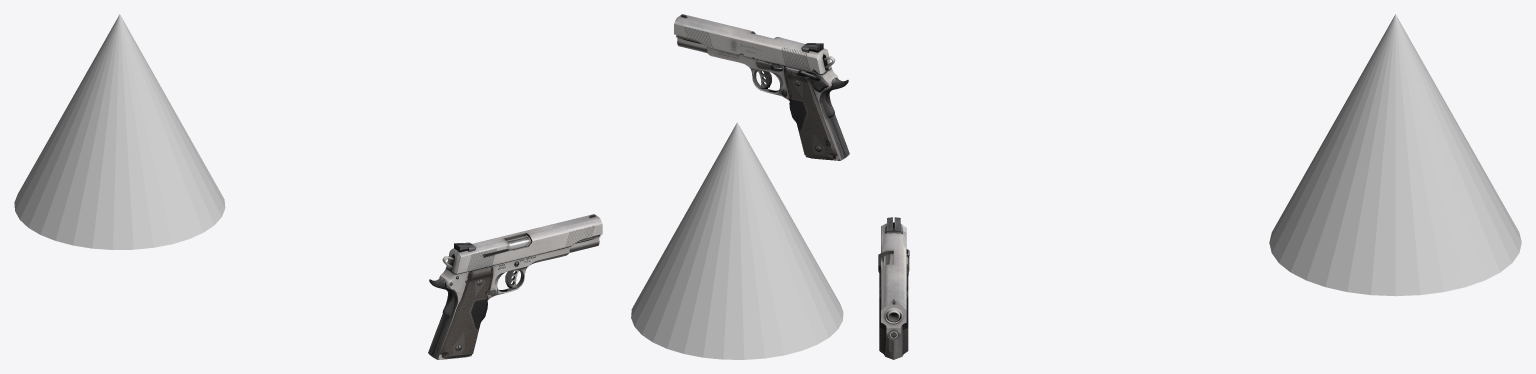
The picture shows the model from 3 angles, left to right: view 1: azimuth 30°, elevation 25°; view 2: azimuth 150°, elevation 25°; view 3: azimuth 270°, elevation 25°; orthographic projection. The views are drawn at different scales.
Visible parts, largest first — view 1: Cone, Gun, Gun1; view 2: Cone, Gun, Gun1, Gun_trigger; view 3: Cone, Gun1, Gun.
Boxes of the visible parts, box(x1,y1,x2,y2) form: Cone: box(14, 14, 225, 249); Gun: box(428, 235, 569, 359); Gun1: box(446, 214, 602, 274); Cone: box(631, 122, 843, 359); Gun: box(707, 35, 849, 160); Gun1: box(674, 14, 831, 74); Gun_trigger: box(758, 70, 771, 88); Cone: box(1269, 14, 1521, 296); Gun1: box(881, 217, 906, 340); Gun: box(878, 222, 909, 359).
Size of what is drawn, in the model's own units: 3.94 by 2.3 by 5.1.
1 material, 1 textured.
